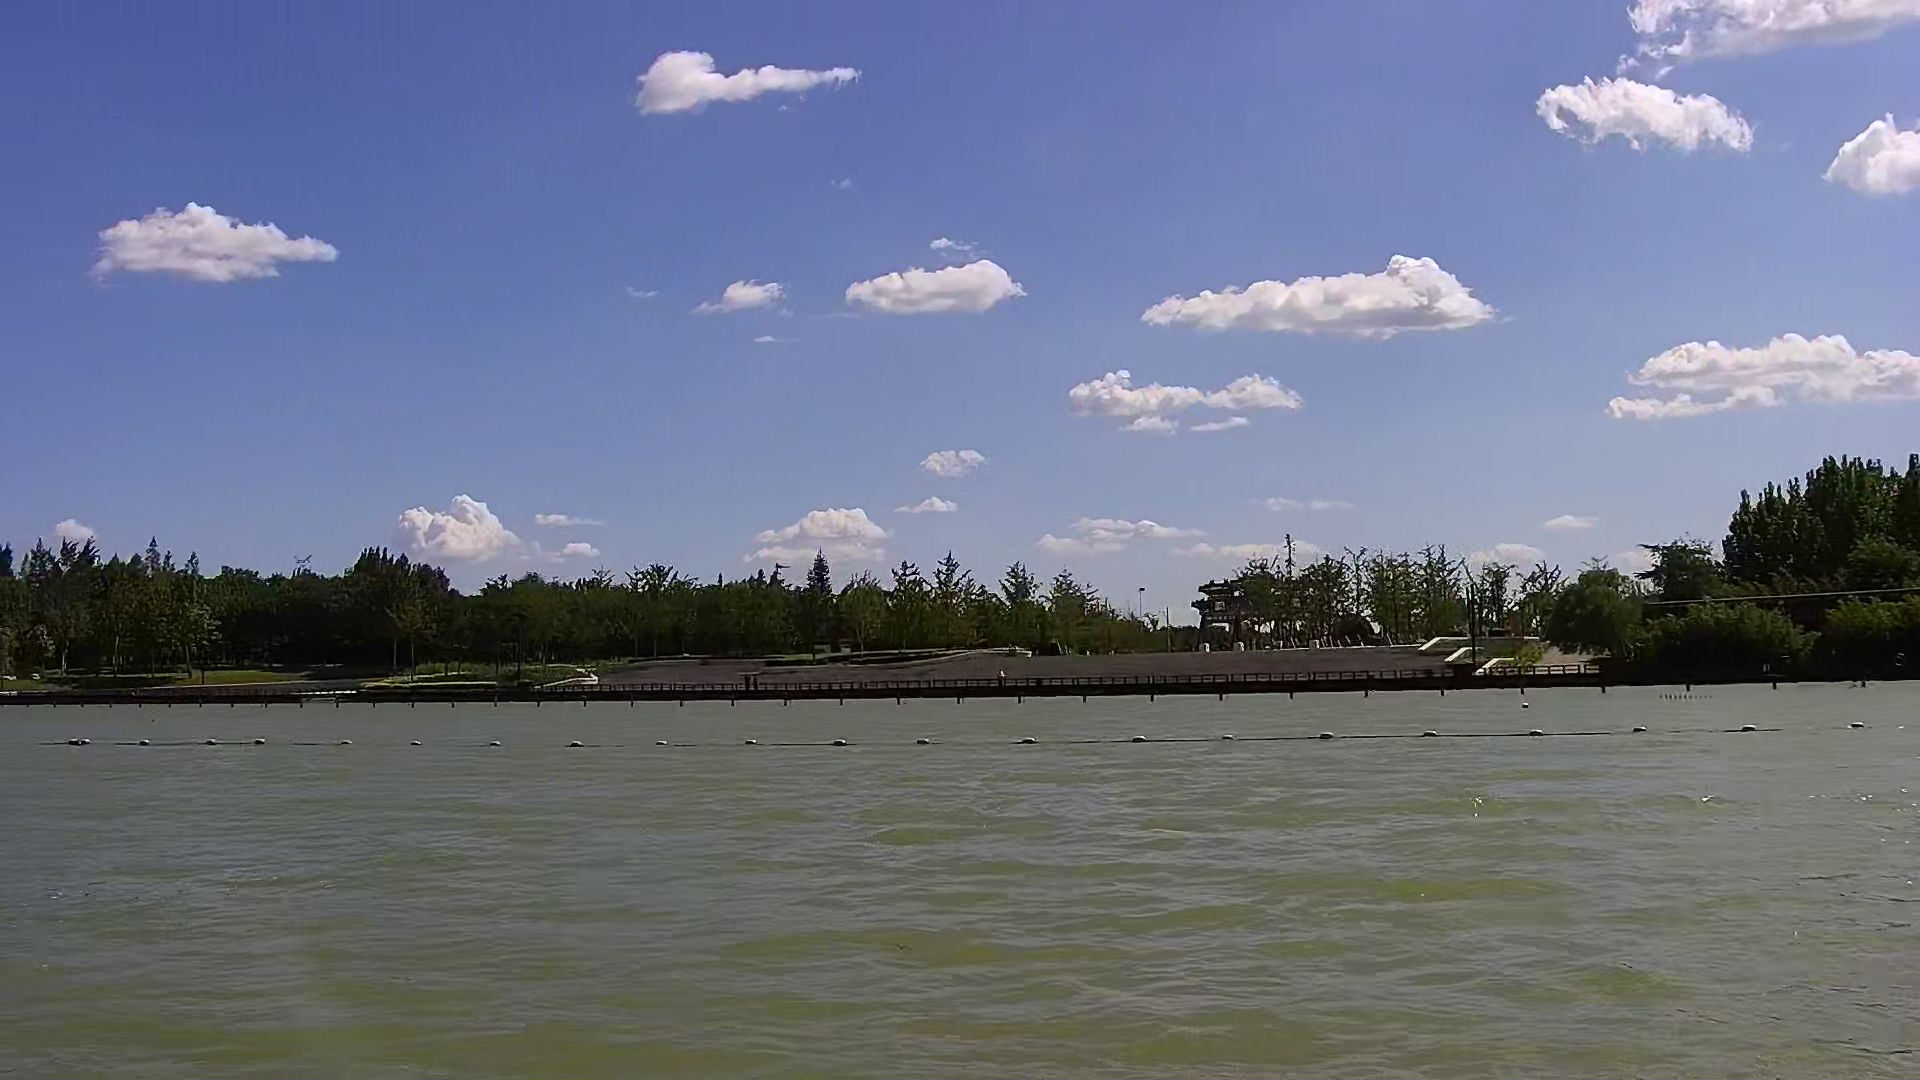ball: (1625, 715, 1658, 738), (1311, 725, 1342, 746), (907, 731, 935, 754), (737, 732, 770, 752), (1122, 725, 1153, 746), (560, 735, 589, 752), (1524, 721, 1548, 741), (829, 736, 853, 752)
harbor: (735, 655, 1609, 694)
